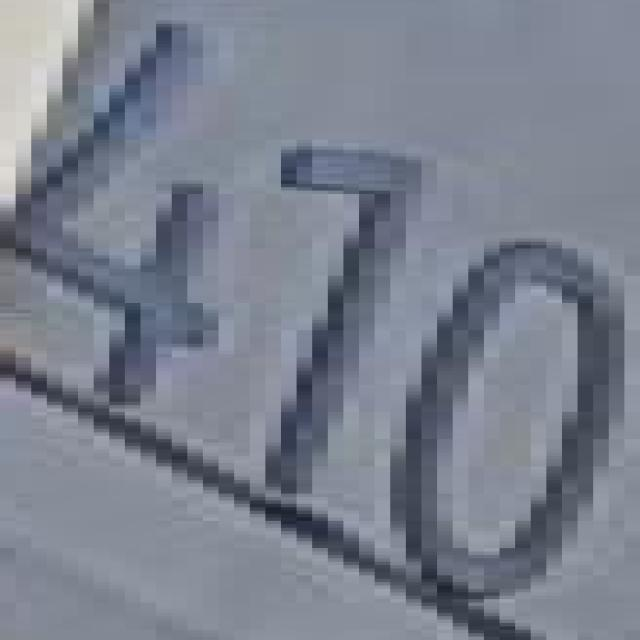character: (0, 17, 255, 418), (378, 233, 640, 604), (260, 138, 440, 504)
